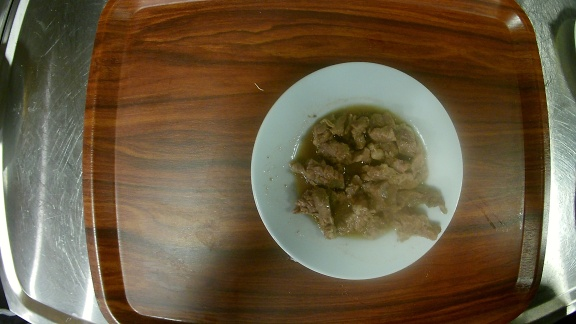etsote: (247, 60, 467, 281)
